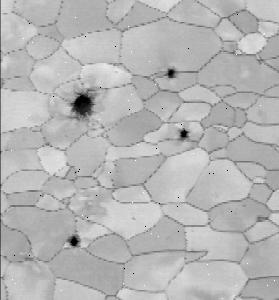good_void: (65, 84, 97, 125), (172, 123, 192, 146), (161, 64, 181, 84), (66, 227, 83, 246), (254, 214, 269, 224), (237, 202, 246, 209), (129, 217, 137, 223), (114, 68, 118, 74)
